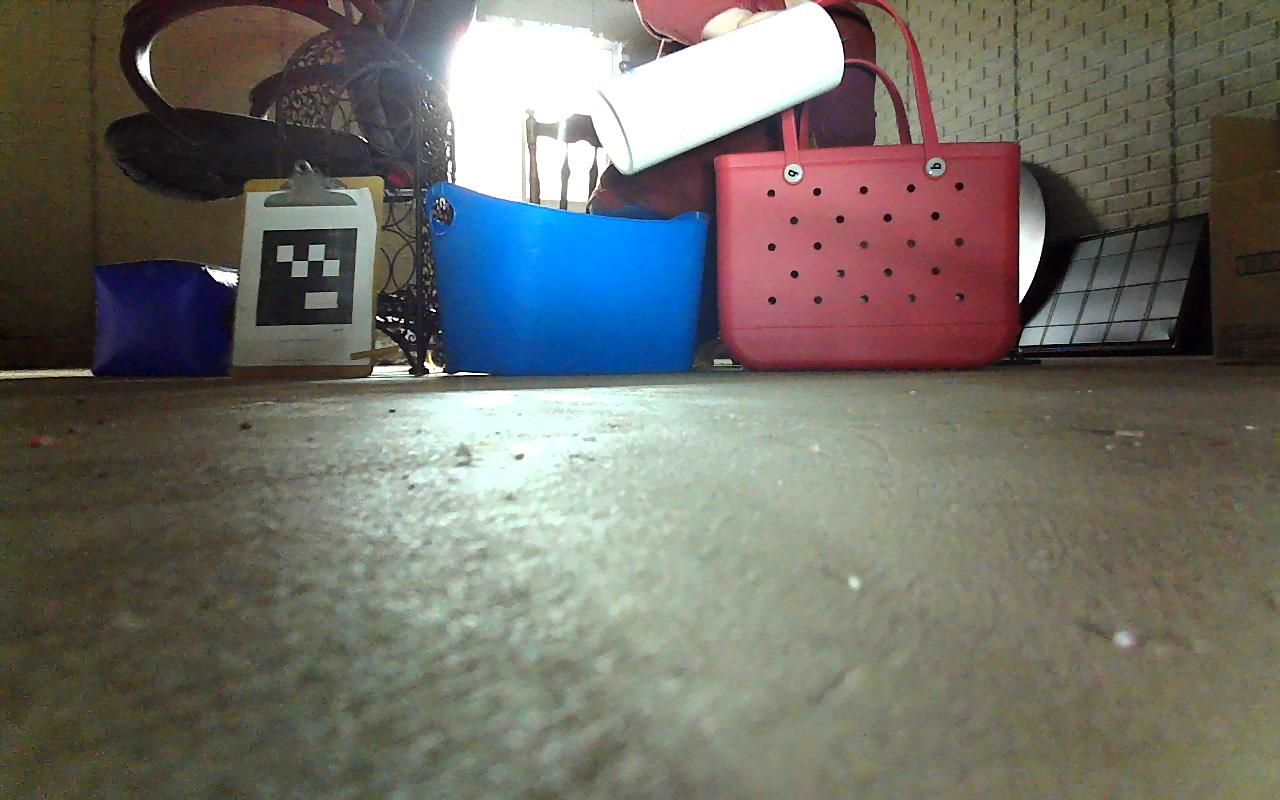coral: (582, 0, 848, 179)
